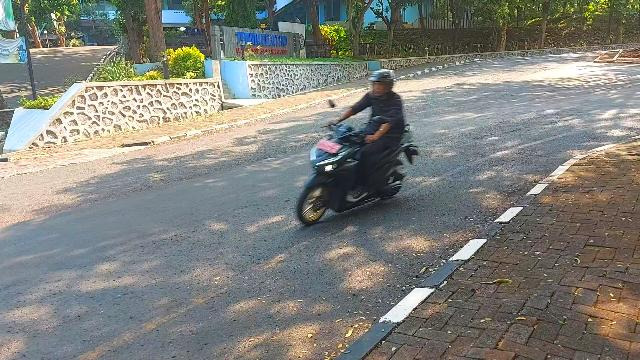helm: (369, 71, 395, 98)
motor: (299, 101, 420, 226)
